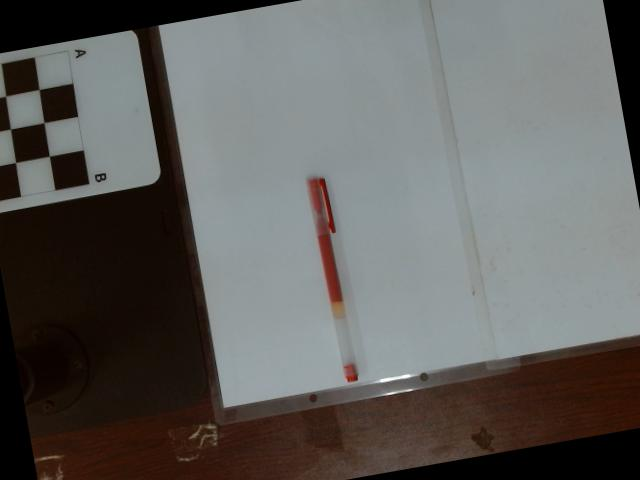PEN: (307, 175, 361, 382)
